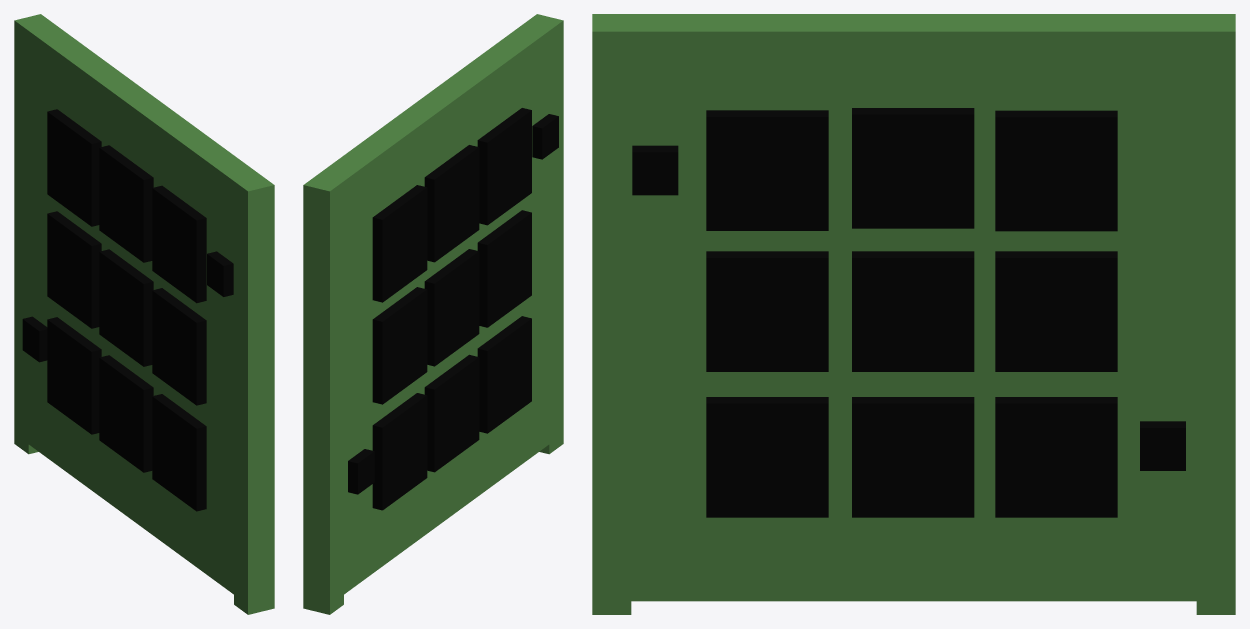
The model's file is pipepuzzle_mdl.fbx.
The picture shows the model from 3 angles, left to right: view 1: azimuth 30°, elevation 25°; view 2: azimuth 150°, elevation 25°; view 3: azimuth 270°, elevation 25°; orthographic projection. The views are drawn at different scales.
Visible parts, largest first — view 1: pipepuzzlebase, pipepuzzlepiece7, pipepuzzlepiece1, pipepuzzlepiece4, pipepuzzlepiece8, pipepuzzlepiece2, pipepuzzlepiece5, pipepuzzlepiece6, pipepuzzlepiece9, pipepuzzlepiece3, pipepuzzleinput, pipepuzzleoutput; view 2: pipepuzzlebase, pipepuzzlepiece3, pipepuzzlepiece6, pipepuzzlepiece9, pipepuzzlepiece2, pipepuzzlepiece8, pipepuzzlepiece5, pipepuzzlepiece4, pipepuzzlepiece7, pipepuzzlepiece1, pipepuzzleoutput, pipepuzzleinput; view 3: pipepuzzlebase, pipepuzzlepiece3, pipepuzzlepiece1, pipepuzzlepiece2, pipepuzzlepiece4, pipepuzzlepiece5, pipepuzzlepiece6, pipepuzzlepiece7, pipepuzzlepiece8, pipepuzzlepiece9, pipepuzzleinput, pipepuzzleoutput.
Boxes of the visible parts, x1,y1,x2,y2 form: pipepuzzlebase: (14,14,274,614); pipepuzzlepiece7: (152,394,206,511); pipepuzzlepiece1: (152,185,206,303); pipepuzzlepiece4: (152,288,206,405); pipepuzzlepiece8: (99,355,153,472); pipepuzzlepiece2: (99,145,153,262); pipepuzzlepiece5: (99,249,153,366); pipepuzzlepiece6: (47,211,101,328); pipepuzzlepiece9: (47,317,101,434); pipepuzzlepiece3: (47,109,101,226); pipepuzzleinput: (207,251,233,296); pipepuzzleoutput: (22,316,47,362); pipepuzzlebase: (303,14,563,614); pipepuzzlepiece3: (372,185,427,302); pipepuzzlepiece6: (372,287,427,404); pipepuzzlepiece9: (372,393,427,510); pipepuzzlepiece2: (424,145,479,262); pipepuzzlepiece8: (424,354,479,472); pipepuzzlepiece5: (424,249,479,366); pipepuzzlepiece4: (477,210,531,327); pipepuzzlepiece7: (477,316,531,433); pipepuzzlepiece1: (477,108,531,225); pipepuzzleoutput: (348,449,374,494); pipepuzzleinput: (532,114,558,159); pipepuzzlebase: (592,14,1235,614); pipepuzzlepiece3: (995,110,1117,231); pipepuzzlepiece1: (706,110,828,230); pipepuzzlepiece2: (852,108,974,228); pipepuzzlepiece4: (706,251,828,371); pipepuzzlepiece5: (852,251,974,371); pipepuzzlepiece6: (995,251,1117,371); pipepuzzlepiece7: (706,397,828,517); pipepuzzlepiece8: (852,397,974,517); pipepuzzlepiece9: (995,397,1117,517); pipepuzzleinput: (632,145,678,195); pipepuzzleoutput: (1140,421,1185,470).
Size of the model in its own units: 0.3443 by 3 by 3.
